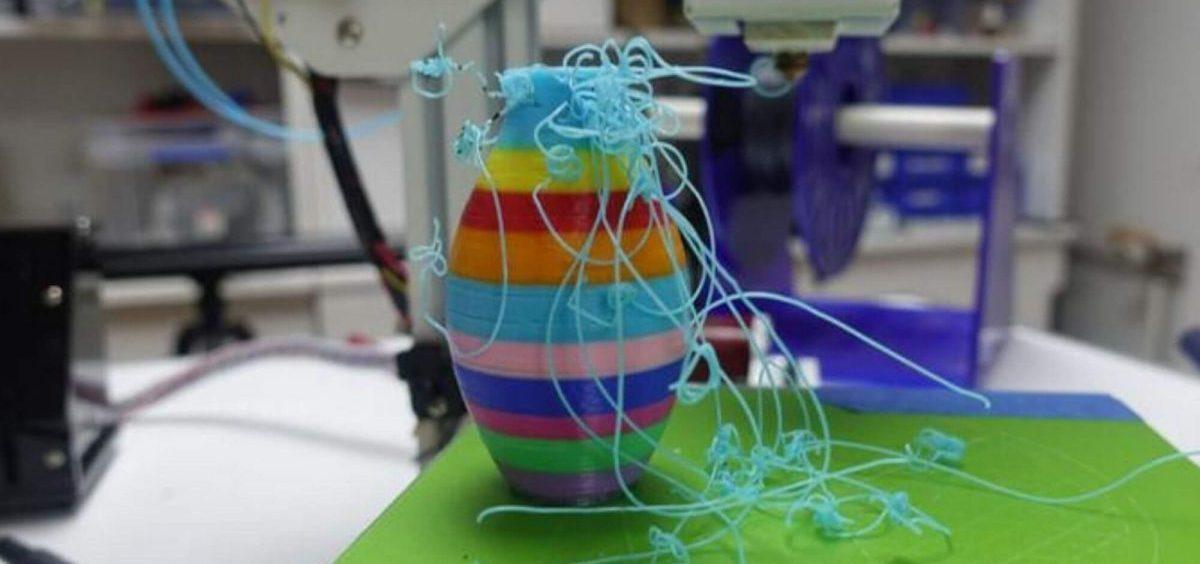Spaghetti: (680, 311, 1001, 501), (544, 44, 767, 307), (457, 503, 970, 553)
